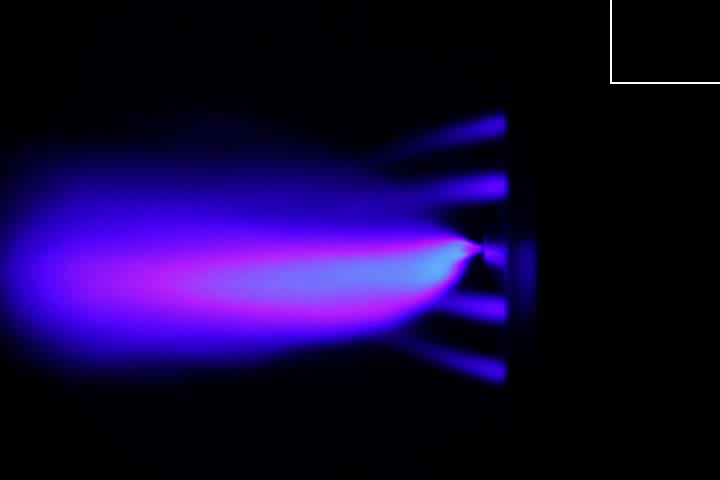burner cap: (478, 236, 511, 269)
pilot flame: (365, 104, 506, 158), (364, 169, 508, 211), (388, 333, 503, 381), (440, 294, 507, 320)
stable: (104, 233, 481, 315)
